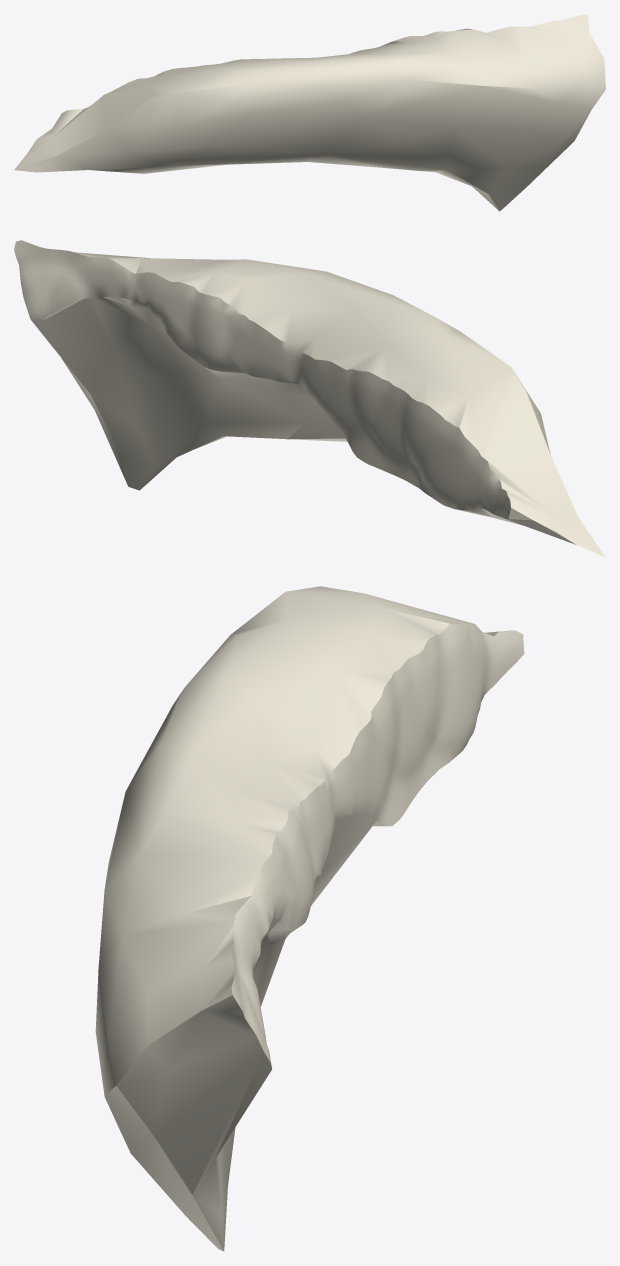
The model's file is fma54387_mm2053.glb.
3 views of the same model, one above another, from view 1: azimuth 30°, elevation 25°; view 2: azimuth 150°, elevation 25°; view 3: azimuth 270°, elevation 25° (orthographic). The views are drawn at different scales.
Parts seen in each view (by area): view 1: FMA54387_MM2053; view 2: FMA54387_MM2053; view 3: FMA54387_MM2053.
Part boxes in pixels (<box>): FMA54387_MM2053: <box>14,14,605,211</box>; FMA54387_MM2053: <box>14,240,605,557</box>; FMA54387_MM2053: <box>95,586,524,1251</box>.
Bounding box in the file's own units: 0.0356 × 0.0129 × 0.0129.
